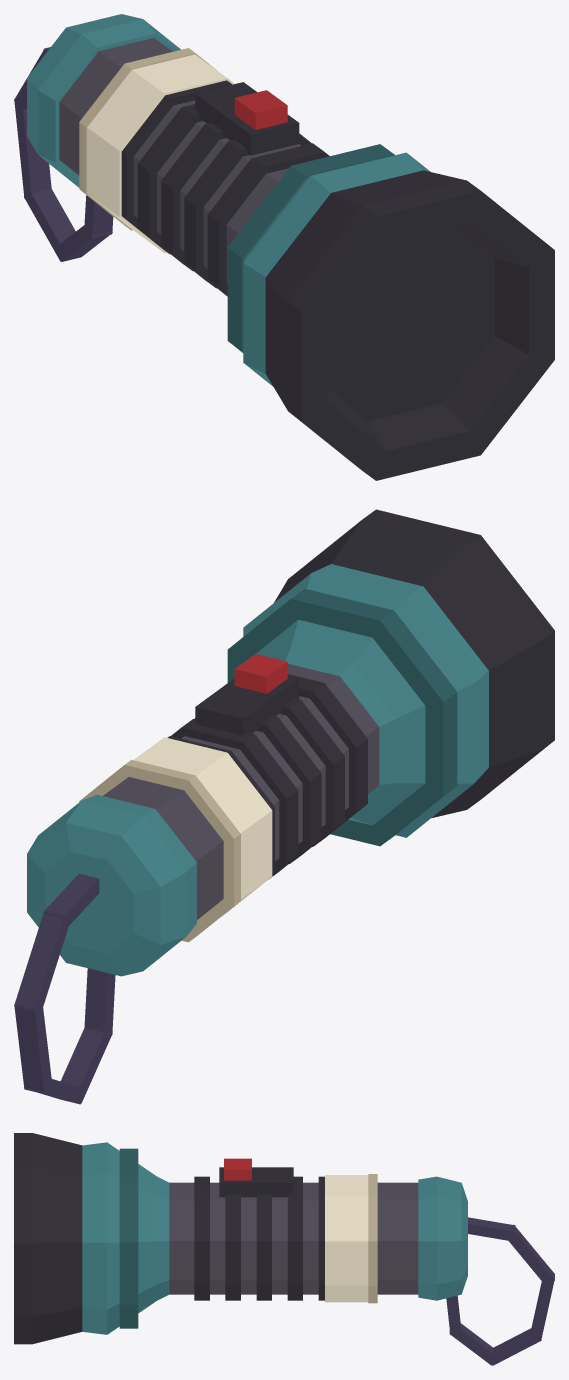
Rendered from torch.glb.
The picture shows the model from 3 angles, top to bottom: view 1: azimuth 30°, elevation 25°; view 2: azimuth 150°, elevation 25°; view 3: azimuth 270°, elevation 25°; orthographic projection. The views are drawn at different scales.
Visible parts, largest first — view 1: Torch; view 2: Torch; view 3: Torch.
Part boxes in pixels (x1=…): Torch: x1=14, y1=14, x2=554, y2=480; Torch: x1=14, y1=509, x2=554, y2=1104; Torch: x1=14, y1=1133, x2=554, y2=1365.
Size of the model in its own units: 0.6282 by 0.7543 by 1.74.
Materials: 1 (1 with a texture image).
